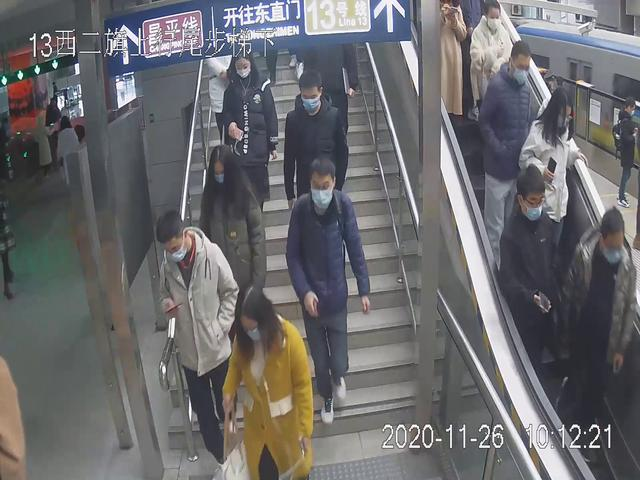person: (149, 207, 244, 474), (284, 154, 373, 424), (552, 201, 640, 465), (220, 281, 315, 480), (473, 37, 543, 293), (495, 168, 569, 396), (514, 86, 586, 281), (198, 142, 271, 332), (280, 66, 351, 250), (218, 50, 279, 244)
